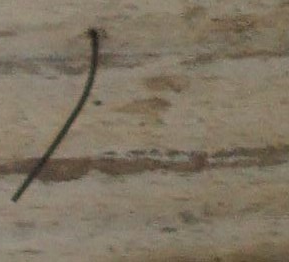Exposed reinforcement: (10, 27, 99, 204)
